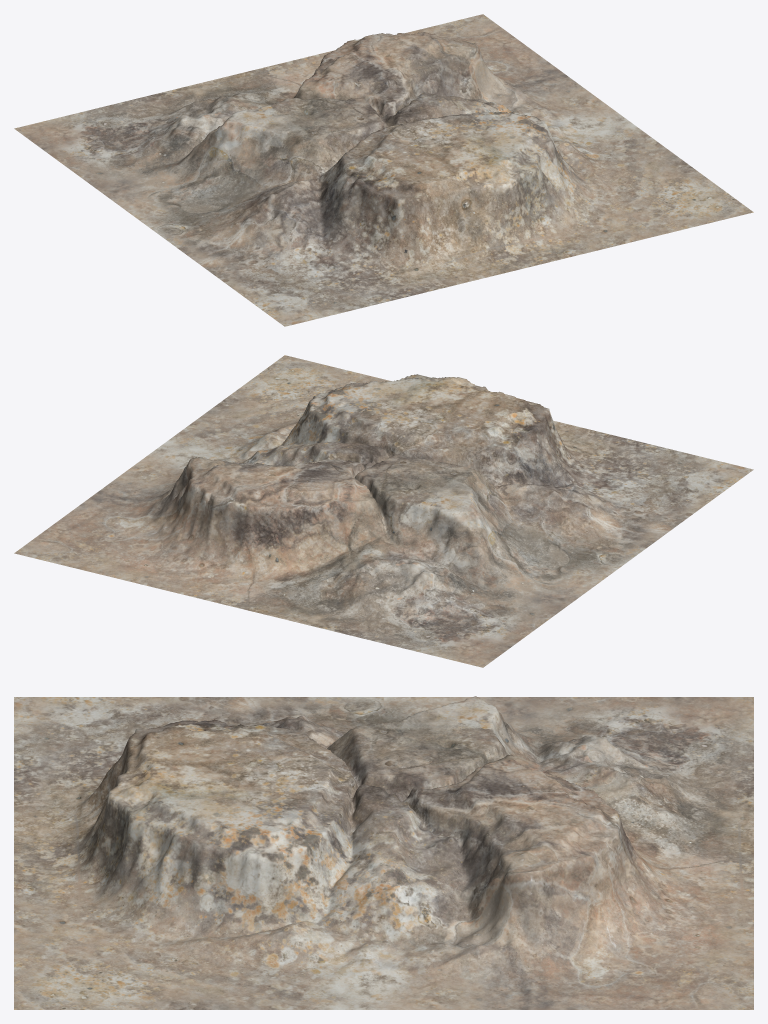
File: Landscape.fbx
3 renders of one model, top to bottom at view 1: azimuth 30°, elevation 25°; view 2: azimuth 150°, elevation 25°; view 3: azimuth 270°, elevation 25°, orthographic. The views are drawn at different scales.
Visible parts, largest first — view 1: Landscape; view 2: Landscape; view 3: Landscape.
Part boxes in pixels (bbox=[...]): Landscape: bbox=[14, 14, 753, 326]; Landscape: bbox=[14, 355, 753, 667]; Landscape: bbox=[14, 696, 753, 1009].
Size of the model in its own units: 2000 by 250 by 2000.
